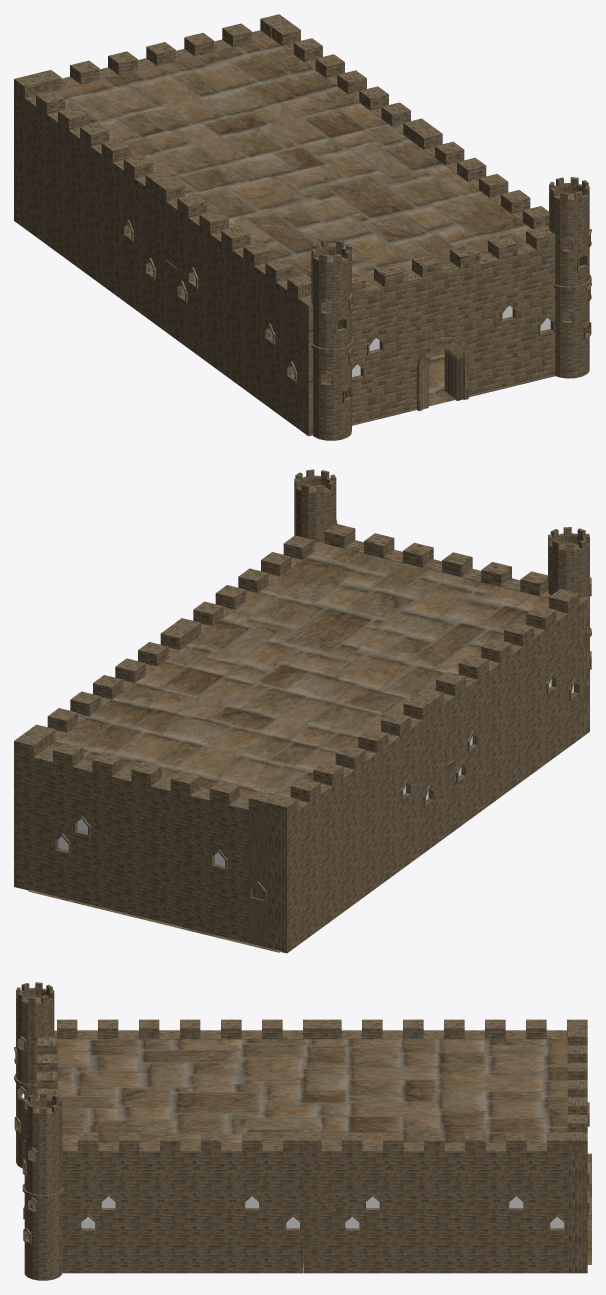
Rendered from Castle.fbx.
The picture shows the model from 3 angles, top to bottom: view 1: azimuth 30°, elevation 25°; view 2: azimuth 150°, elevation 25°; view 3: azimuth 270°, elevation 25°; orthographic projection. The views are drawn at different scales.
Parts seen in each view (by area): view 1: Cube.001; view 2: Cube.001; view 3: Cube.001.
Part boxes in pixels (left/top/right/bottom): Cube.001: left=14, top=14, right=591, bottom=440; Cube.001: left=14, top=469, right=591, bottom=953; Cube.001: left=14, top=982, right=591, bottom=1280.
Bounding box in the file's own units: 2190 × 1366 × 4123.
